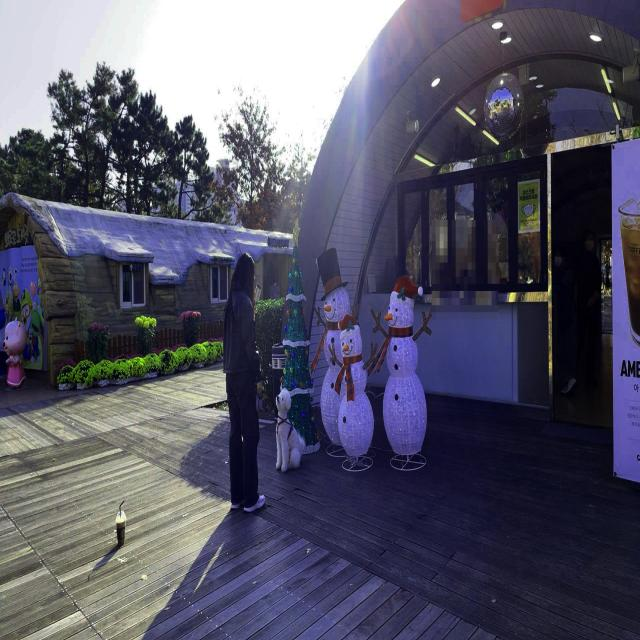Leashed_Dog: (245, 372, 305, 474)
